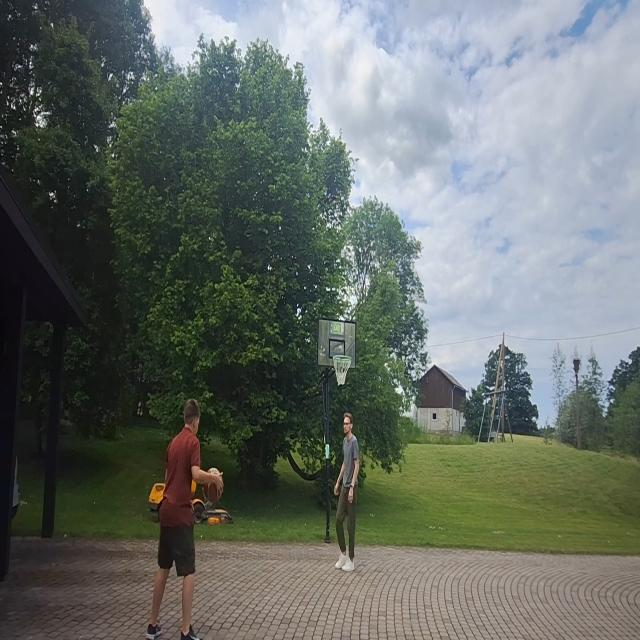ball: (203, 461, 225, 503)
basket: (332, 352, 353, 389)
player: (144, 393, 232, 640), (332, 411, 360, 577)
